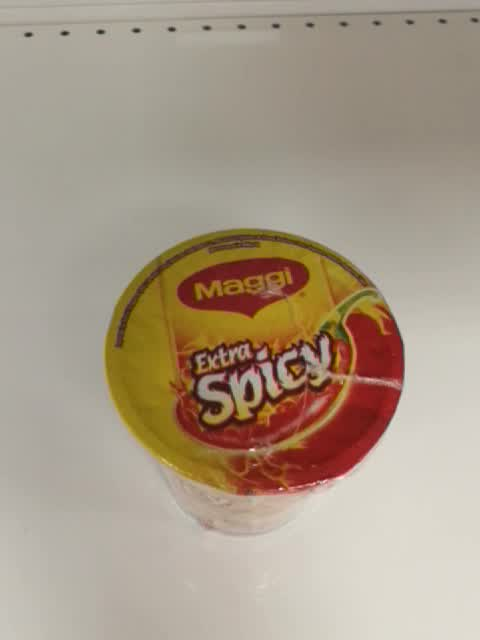maggi: (104, 227, 404, 539)
